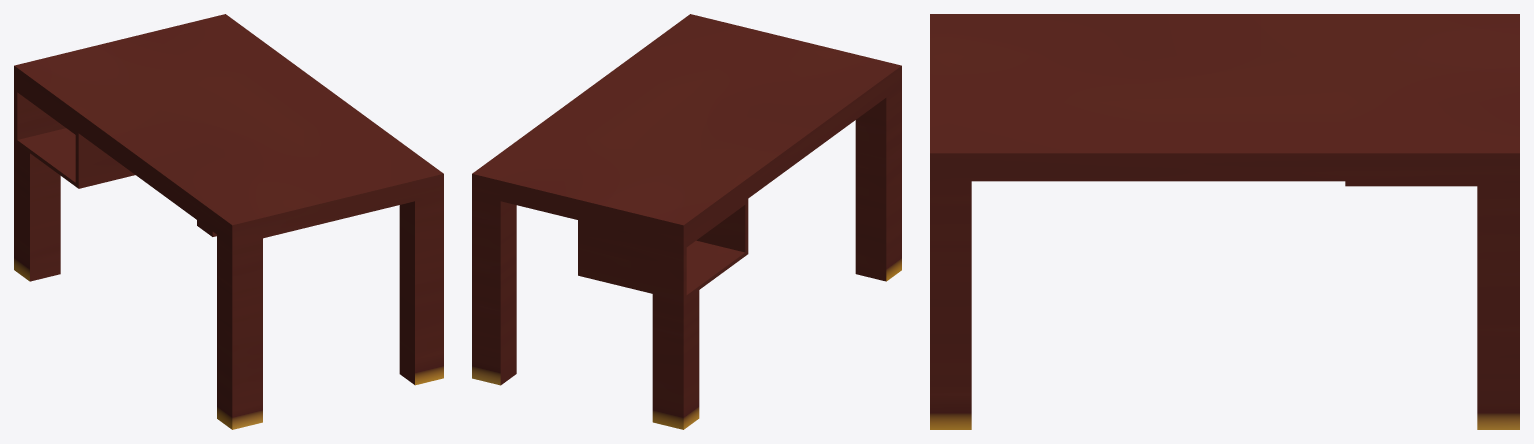
Rendered from escritorio.fbx.
3 renders of one model, left to right at view 1: azimuth 30°, elevation 25°; view 2: azimuth 150°, elevation 25°; view 3: azimuth 270°, elevation 25°, orthographic. The views are drawn at different scales.
Visible parts, largest first — view 1: Mesa; view 2: Mesa; view 3: Mesa.
Part boxes in pixels (box(x1,y1,x2,y2)): Mesa: box(14, 14, 443, 429); Mesa: box(472, 14, 901, 429); Mesa: box(930, 14, 1519, 429).
Bounding box in the file's own units: 105 × 96.7 × 187.
